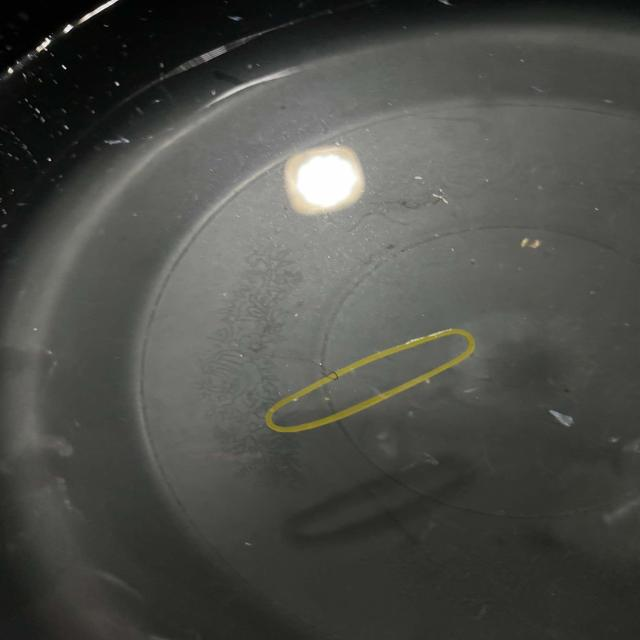Rubberband: (265, 328, 475, 433)
